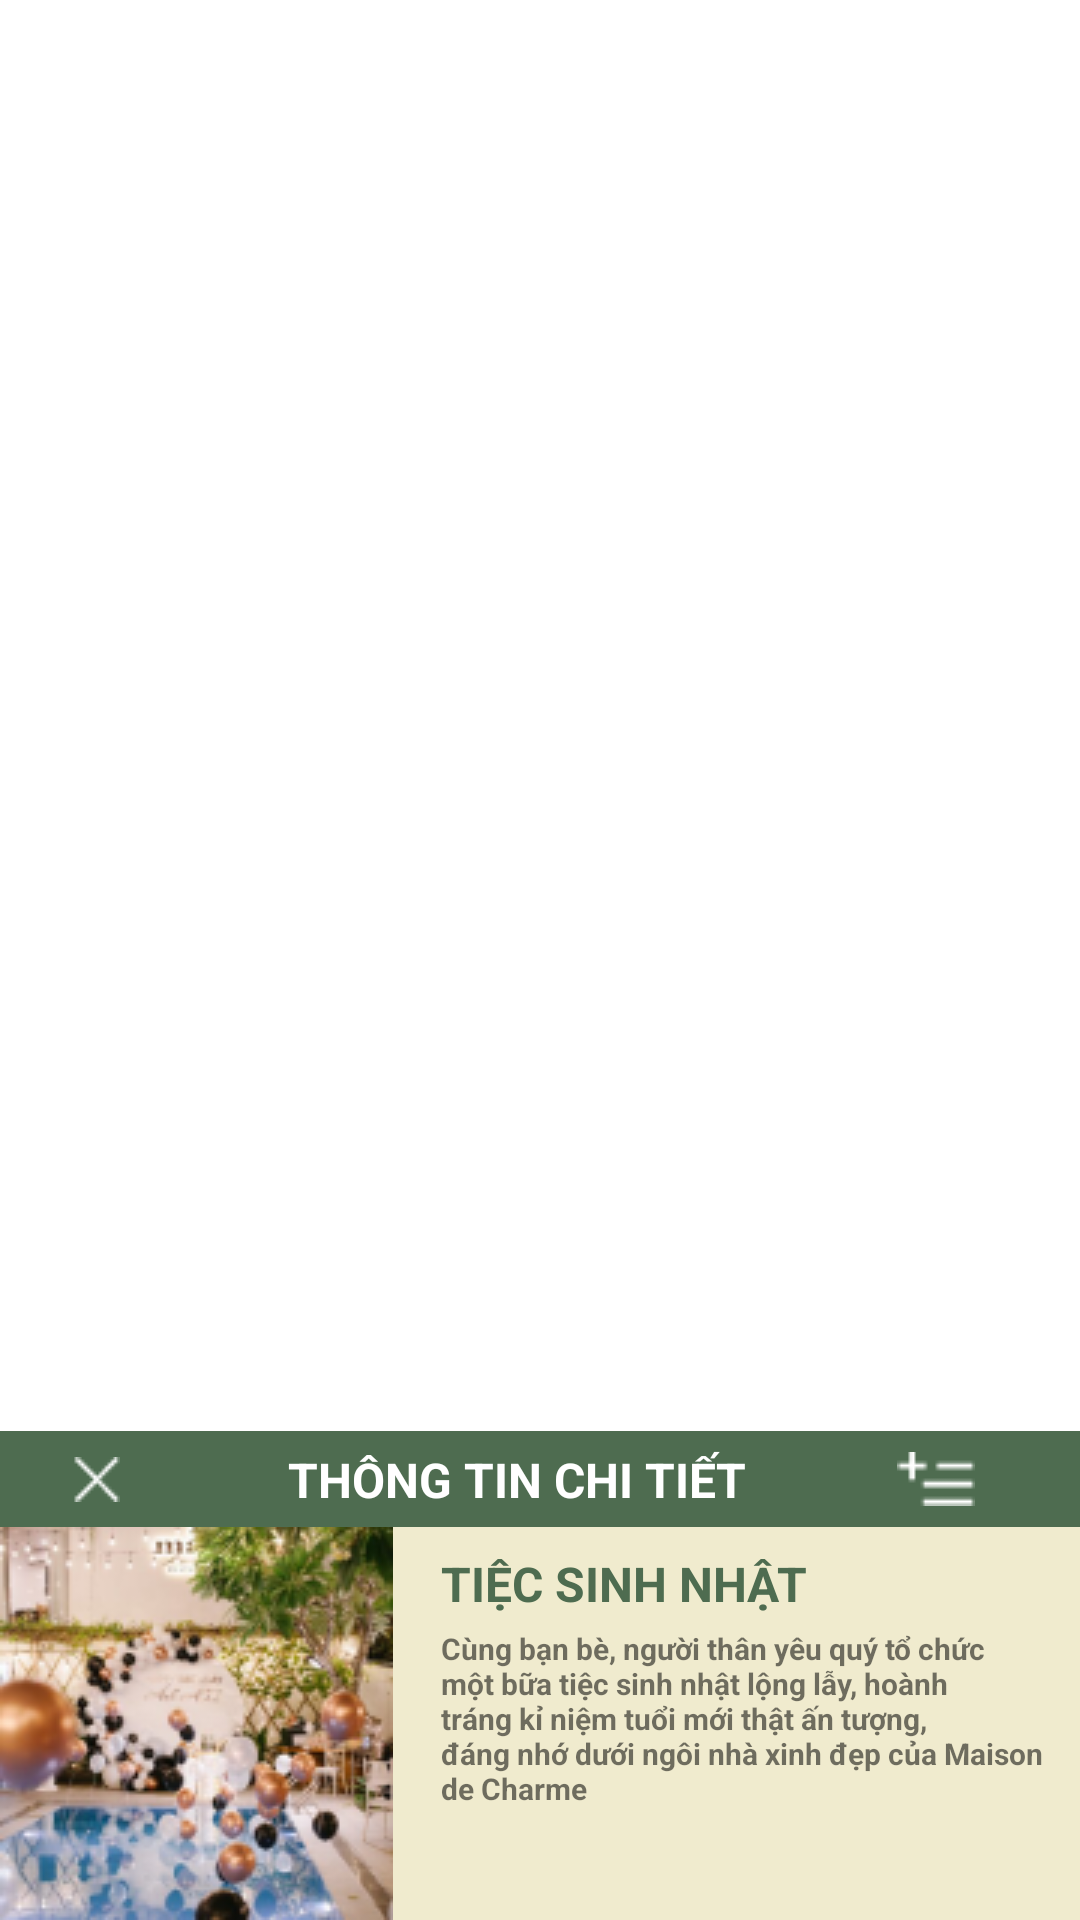

Icon bounding boxes for this 1080w x 1920h phone screenshot, format [x1,y1,x2,y2]:
delete: [74,1457,120,1502]
